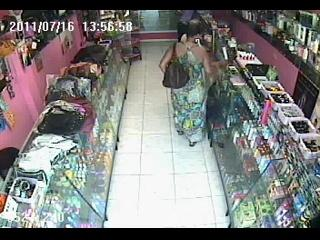Normal: (159, 20, 222, 146), (162, 42, 190, 89)
